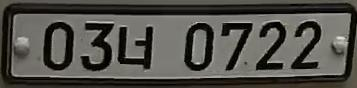0: (38, 17, 79, 72), (180, 20, 216, 74)
2: (287, 18, 325, 73), (255, 18, 288, 73)
3: (79, 19, 117, 73)
7: (217, 18, 254, 72)
너: (116, 23, 155, 71)
